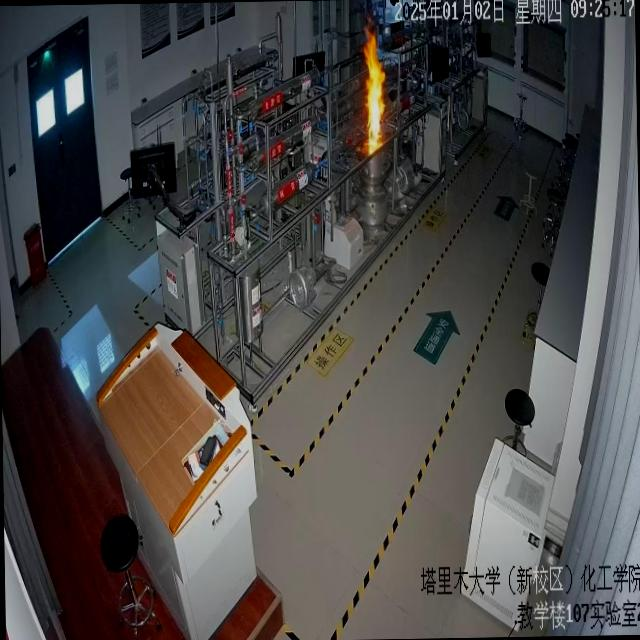fire: (357, 24, 408, 169)
